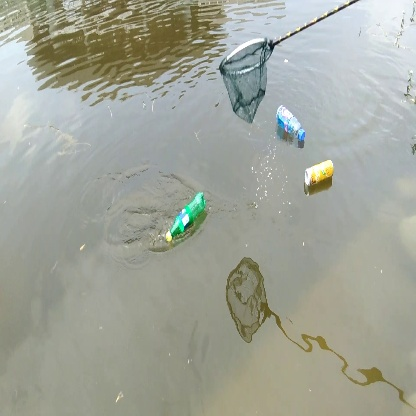bottle: (167, 189, 207, 246), (274, 104, 308, 145), (303, 157, 335, 192)
